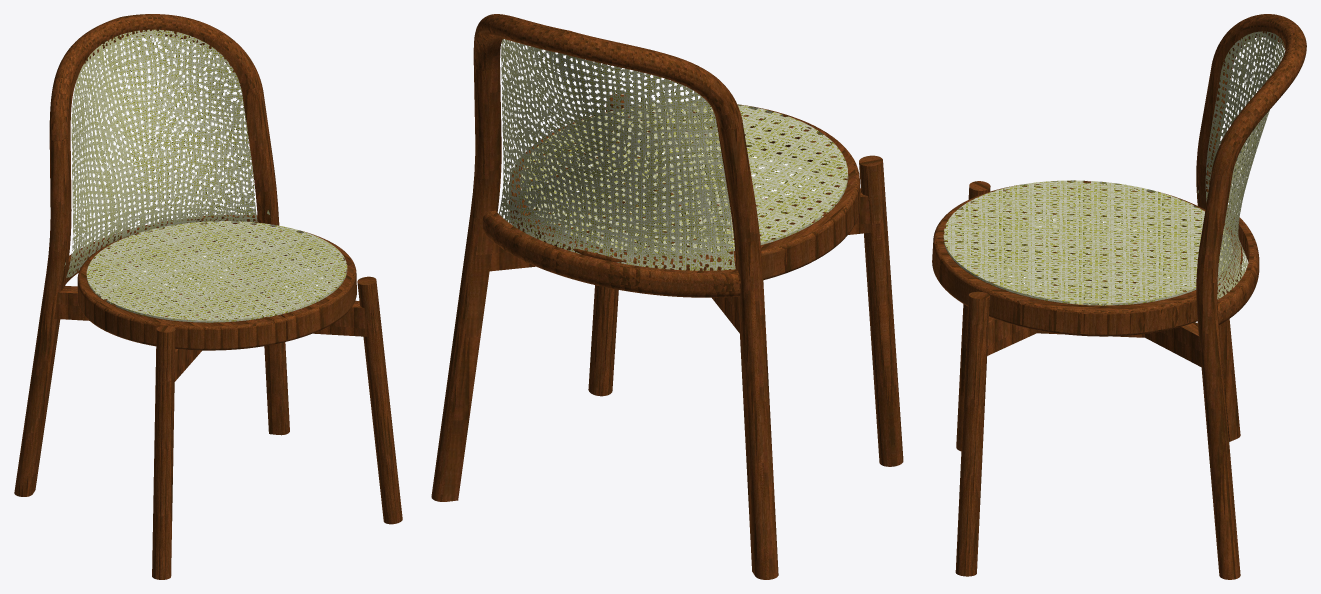
The model's file is cartier-cadeira.glb.
3 renders of one model, left to right at view 1: azimuth 30°, elevation 25°; view 2: azimuth 150°, elevation 25°; view 3: azimuth 270°, elevation 25°, orthographic. The views are drawn at different scales.
Visible parts, largest first — view 1: 3DGeom-2, 3DGeom-3, 3DGeom-1, 3DGeom-4; view 2: 3DGeom-3, 3DGeom-2, 3DGeom-1, 3DGeom-4; view 3: 3DGeom-3, 3DGeom-1, 3DGeom-4, 3DGeom-2.
Part boxes in pixels (box(x1,y1,x2,y2)): 3DGeom-2: box(64, 29, 270, 277); 3DGeom-3: box(14, 14, 402, 579); 3DGeom-1: box(86, 221, 347, 322); 3DGeom-4: box(54, 223, 367, 381); 3DGeom-3: box(431, 14, 903, 579); 3DGeom-2: box(498, 39, 735, 270); 3DGeom-1: box(520, 101, 848, 255); 3DGeom-4: box(489, 104, 871, 333); 3DGeom-3: box(933, 14, 1306, 579); 3DGeom-1: box(943, 180, 1232, 305); 3DGeom-4: box(932, 181, 1242, 367); 3DGeom-2: box(1197, 31, 1284, 299).
Bounding box in the file's own units: 0.5276 × 0.7826 × 0.5641.
3 materials, 3 textured.
